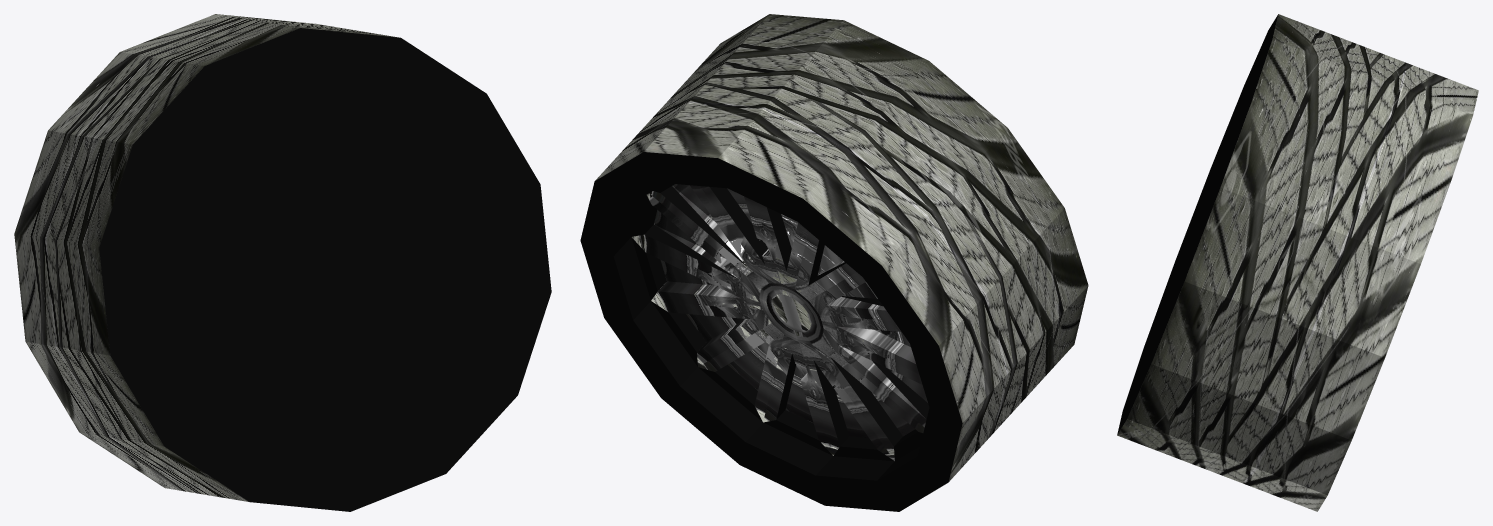
The model's file is llantad.obj.
3 views of the same model, side by side, from view 1: azimuth 30°, elevation 25°; view 2: azimuth 150°, elevation 25°; view 3: azimuth 270°, elevation 25° (orthographic). The views are drawn at different scales.
Visible parts, largest first — view 1: pasted__polySurface3 carro1:polySurface141polySurface51 group; view 2: pasted__polySurface3 carro1:polySurface141polySurface51 group; view 3: pasted__polySurface3 carro1:polySurface141polySurface51 group.
Part boxes in pixels (x1,y1,x2,y2): pasted__polySurface3 carro1:polySurface141polySurface51 group: [14, 14, 551, 511]; pasted__polySurface3 carro1:polySurface141polySurface51 group: [580, 14, 1088, 511]; pasted__polySurface3 carro1:polySurface141polySurface51 group: [1117, 14, 1478, 511].
Bounding box in the file's own units: 0.5278 × 0.5602 × 0.4075.
3 materials, 2 textured.
